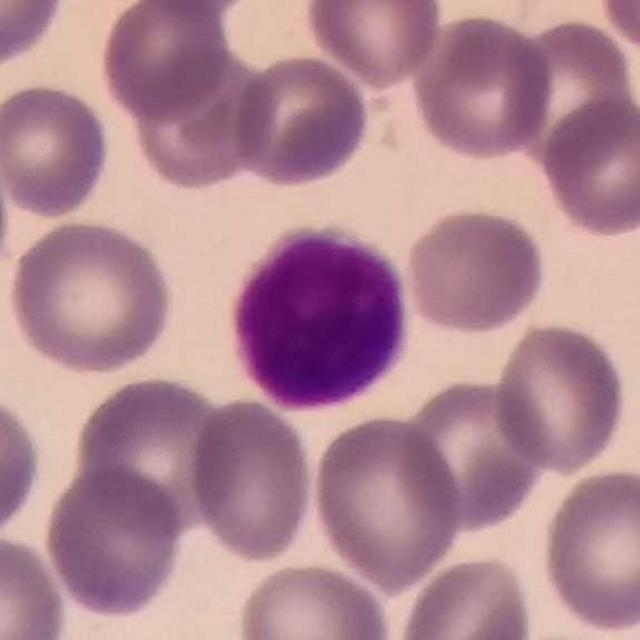Lymphocyte: (220, 217, 418, 416)
RBC: (308, 411, 466, 591), (0, 219, 175, 381), (69, 370, 235, 538), (396, 374, 551, 534), (40, 463, 187, 621), (408, 10, 556, 163), (186, 395, 317, 566), (490, 318, 630, 476), (124, 46, 270, 196), (508, 14, 636, 177), (227, 51, 374, 189), (402, 204, 549, 337), (536, 464, 640, 637), (97, 0, 234, 124), (0, 79, 114, 220), (536, 92, 640, 240), (231, 558, 396, 640), (300, 0, 448, 88), (395, 552, 538, 640), (0, 531, 71, 640), (0, 388, 47, 546), (0, 0, 72, 72), (594, 0, 640, 61), (124, 0, 258, 19)
